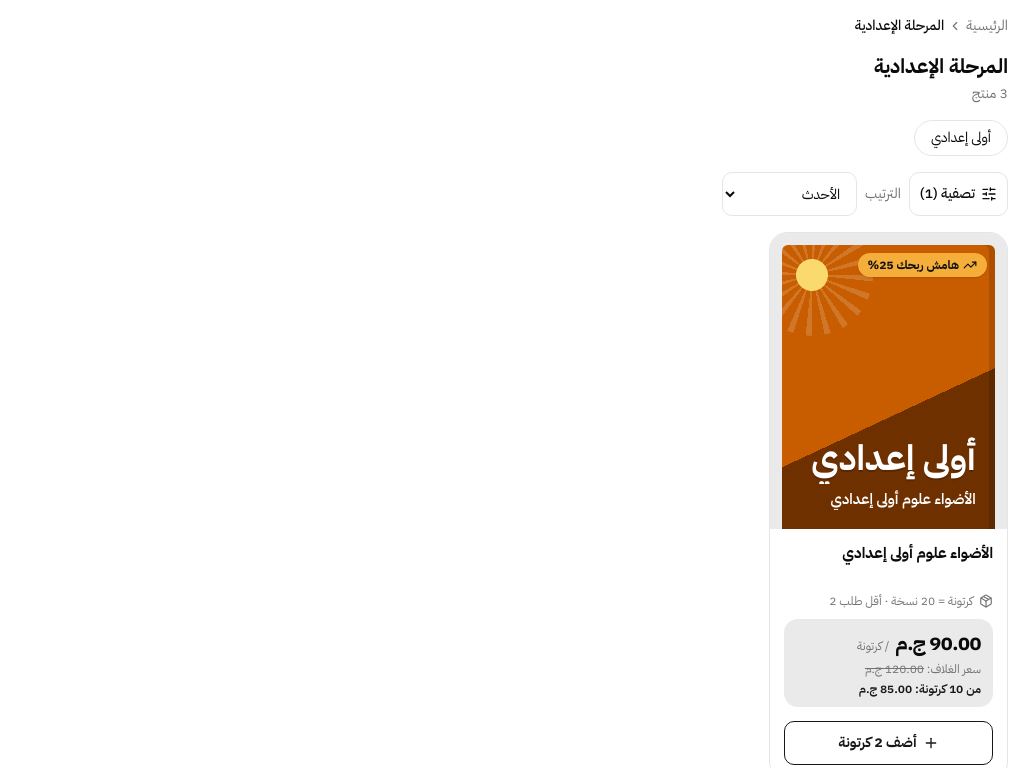
Scenario: ProductListing › opens the first two groups and any group with a selection; the rest collapse to their current choice
Click the button "تصفية (1)".
click(958, 194)  # box [909,172,1008,216]
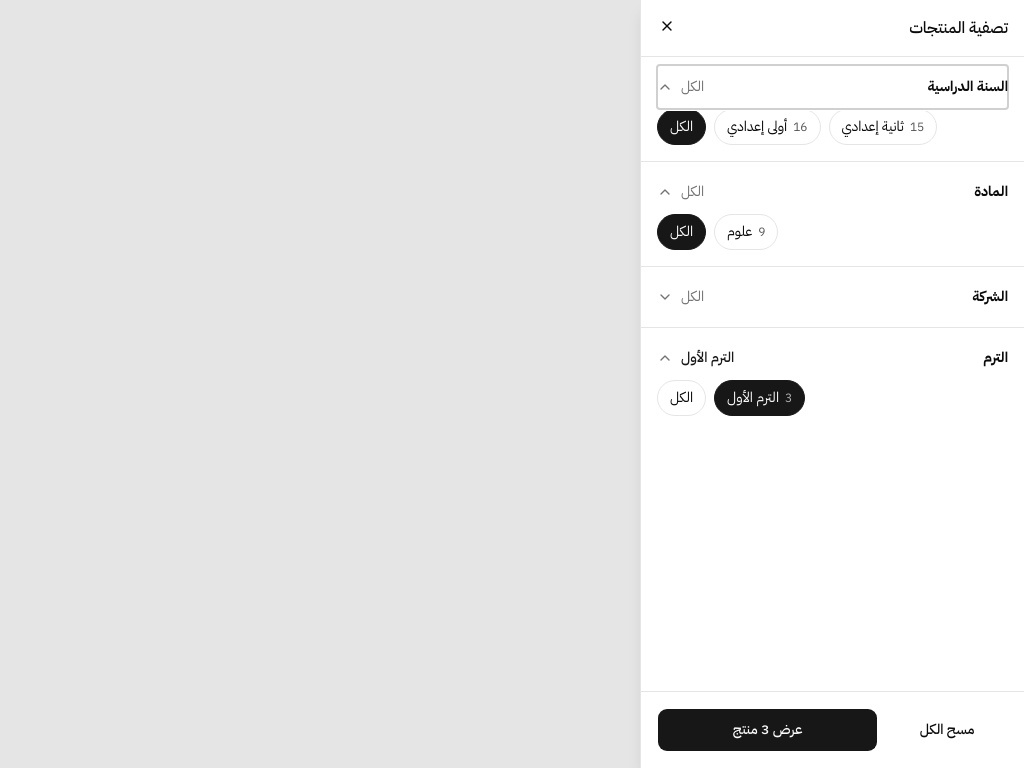
Click the button "الشركة الكل".
click(990, 296)  # box [657,275,1008,319]
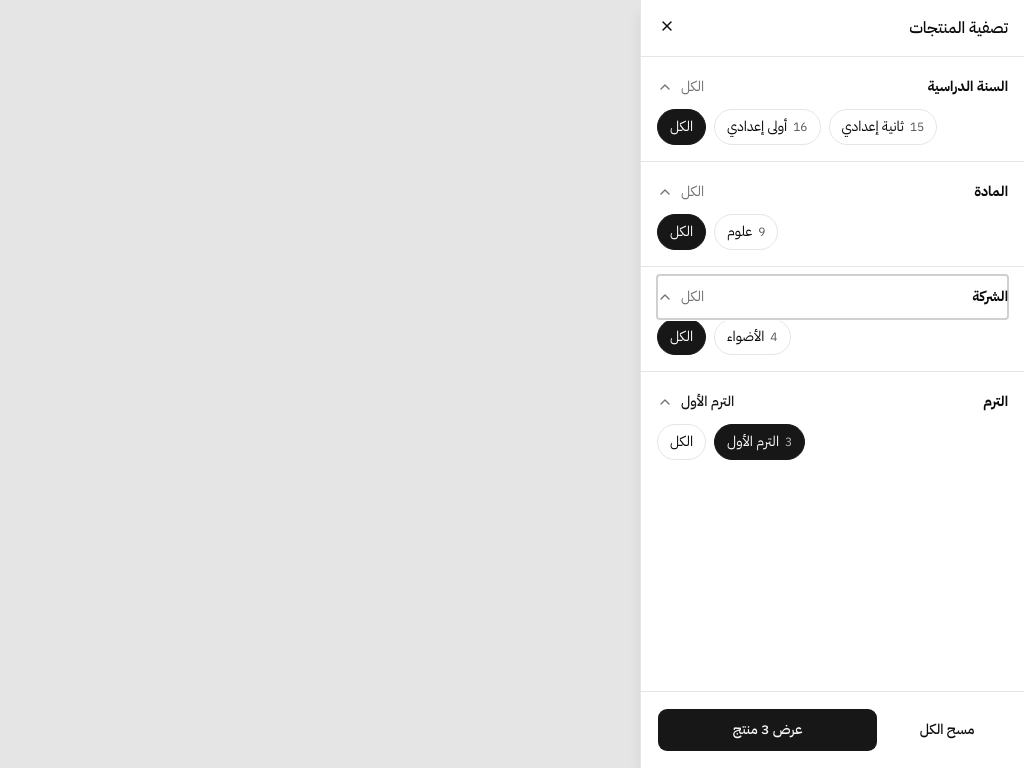
expect the radio button labelled "الأضواء 4" is shown: met, box [714,319,790,355]
